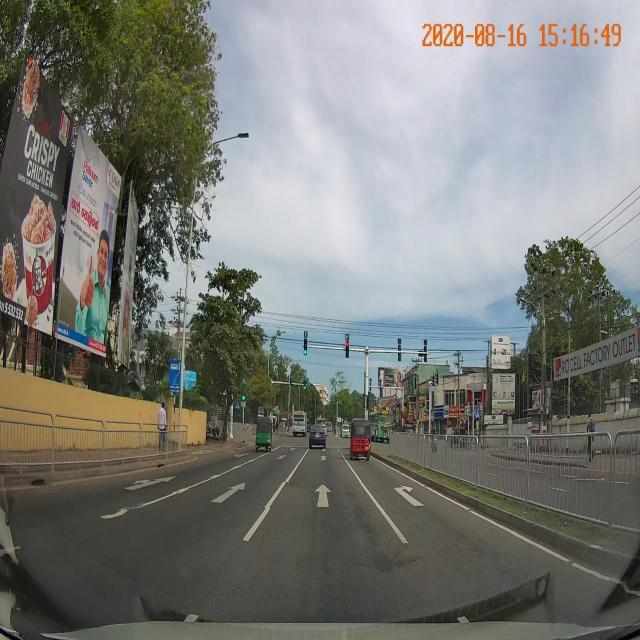forward: (261, 483, 382, 508)
